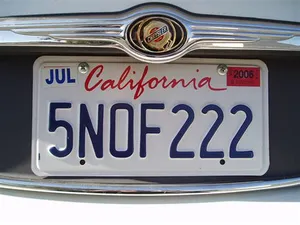number_plate: (29, 52, 276, 180)
